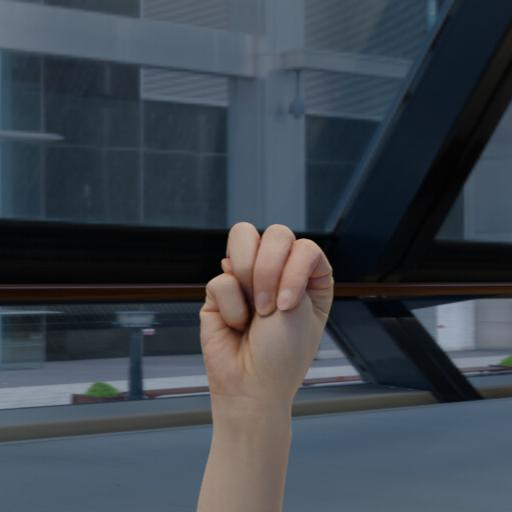M: (188, 215, 346, 405)
